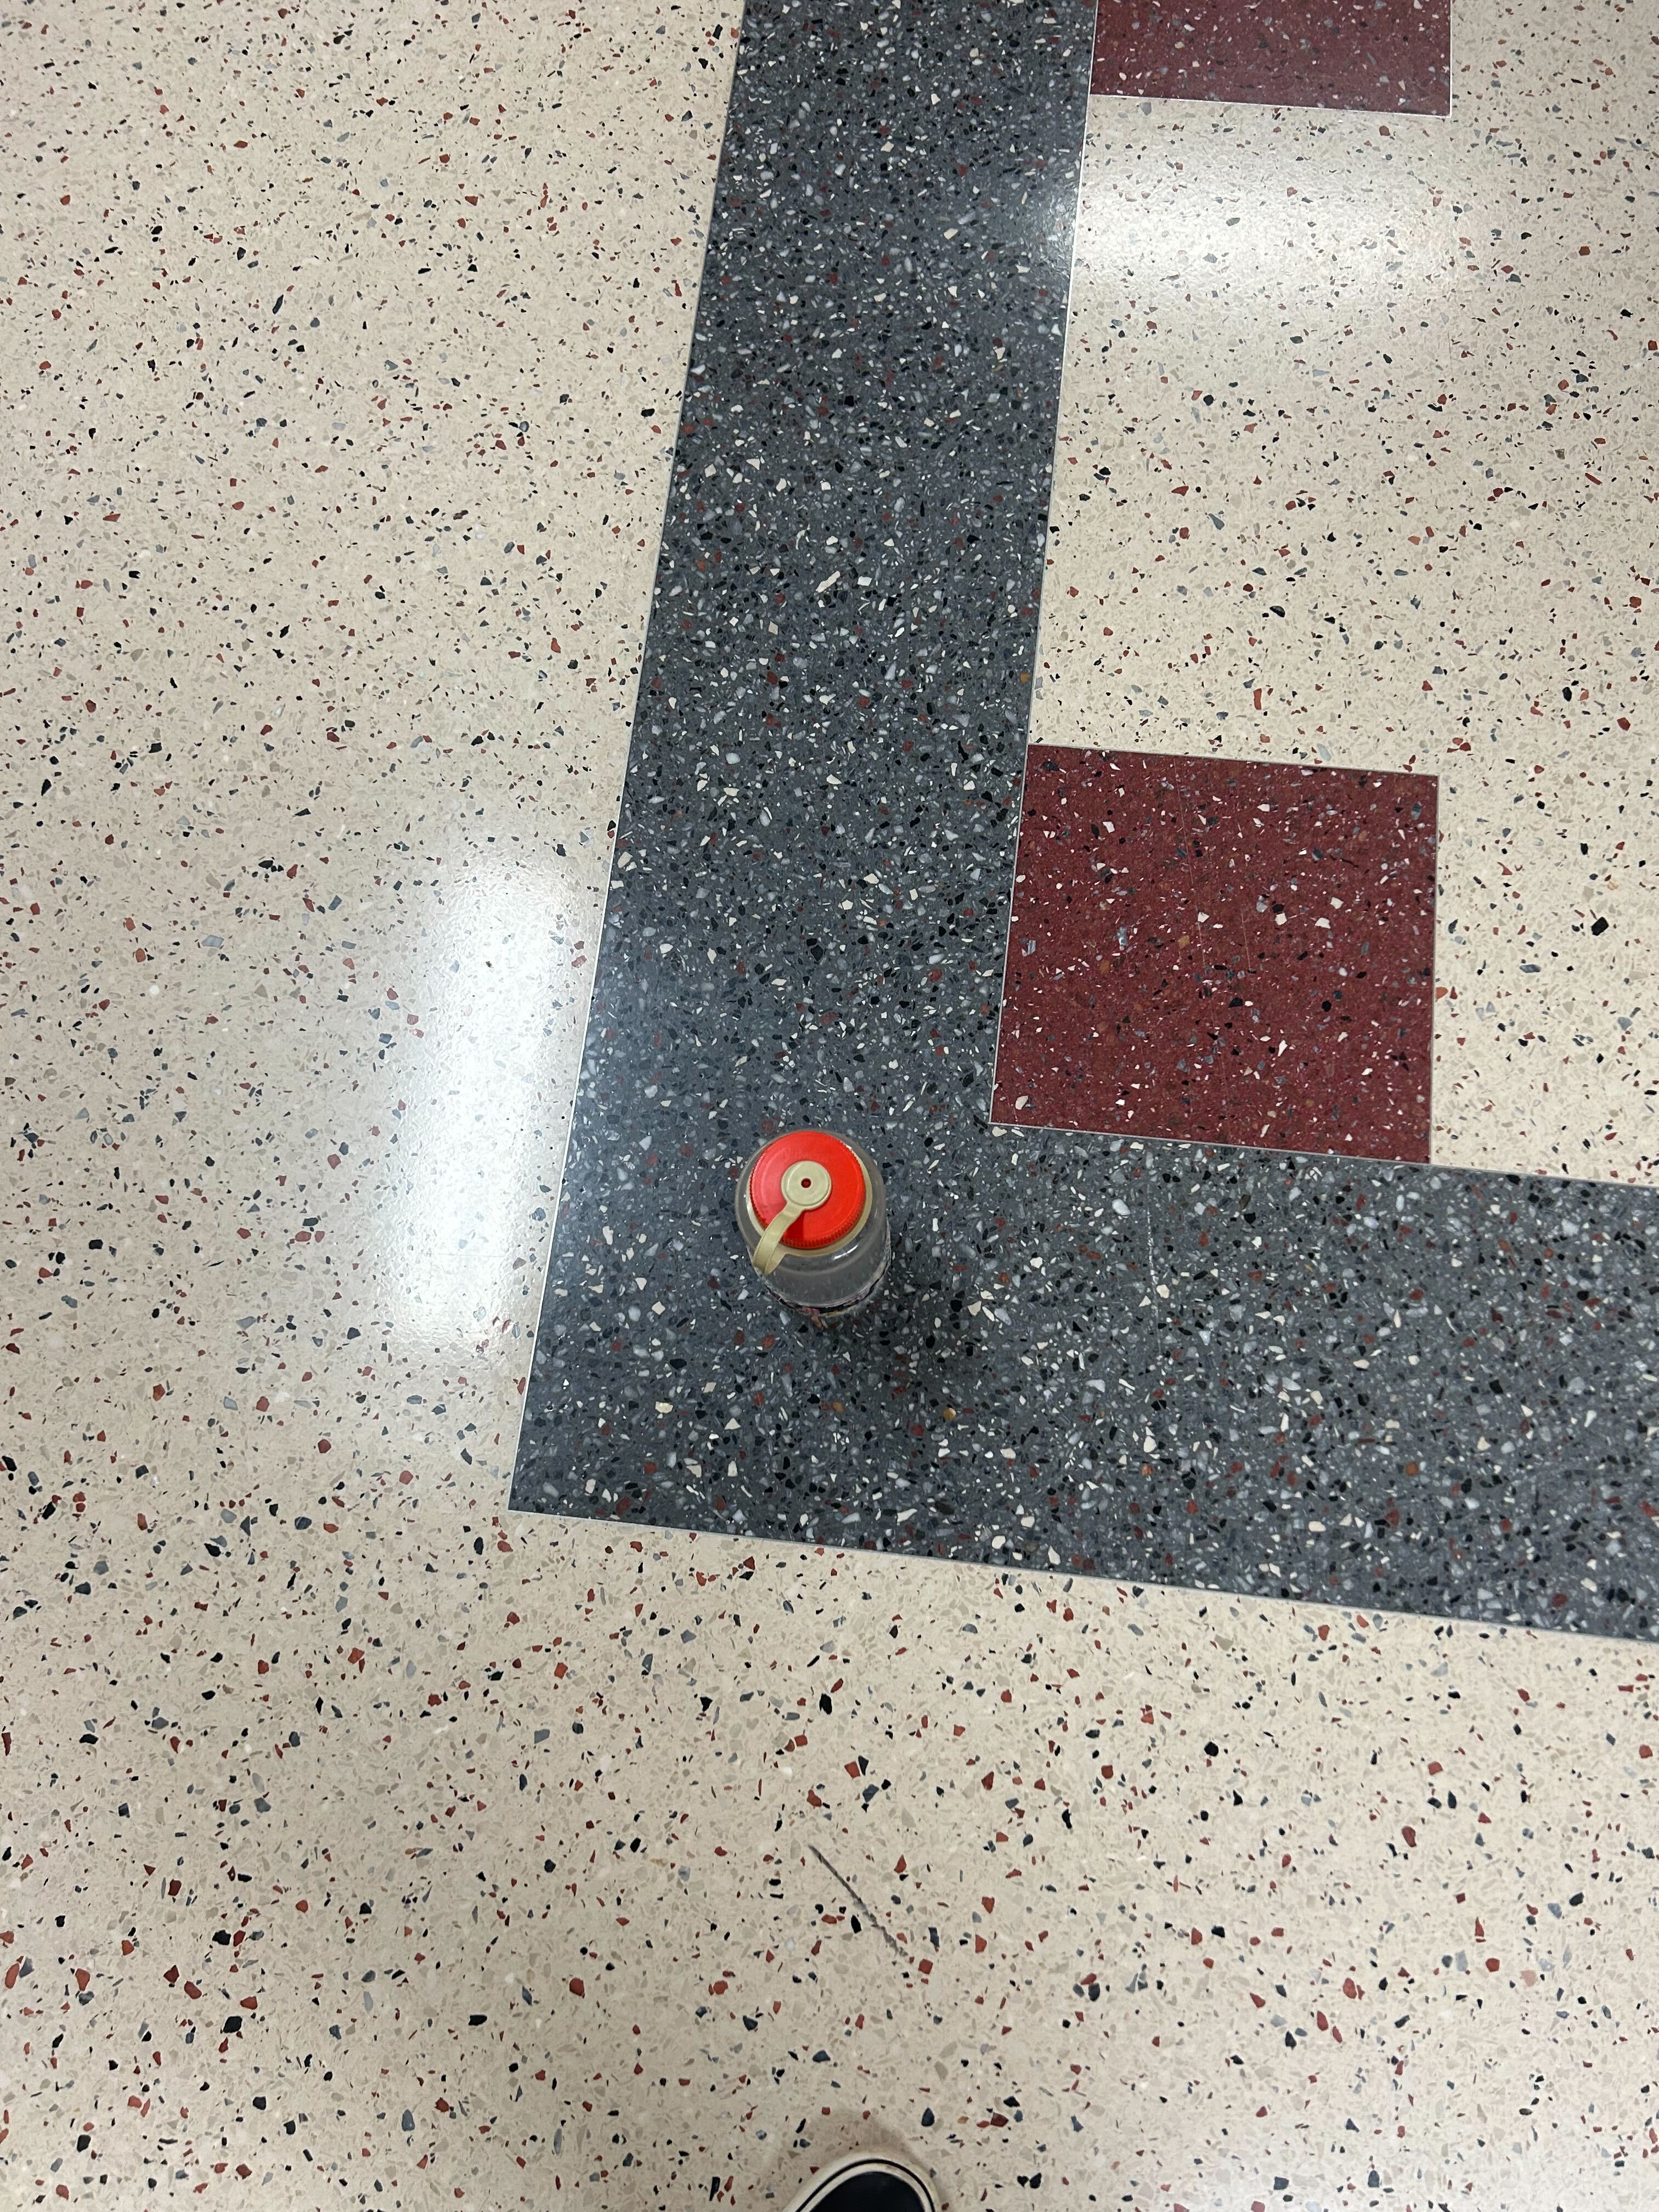bottle: (730, 1118, 894, 1339)
